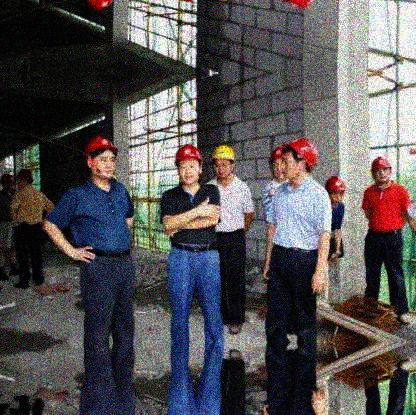helmet: (81, 134, 120, 182), (281, 137, 318, 178), (173, 144, 204, 182), (209, 144, 237, 178), (370, 155, 393, 183), (326, 174, 347, 204), (269, 146, 285, 179), (14, 169, 34, 187), (1, 174, 14, 191)
